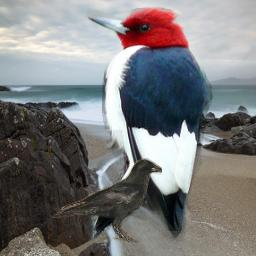Crow: (53, 158, 162, 243)
Woodpecker: (86, 0, 213, 247)
